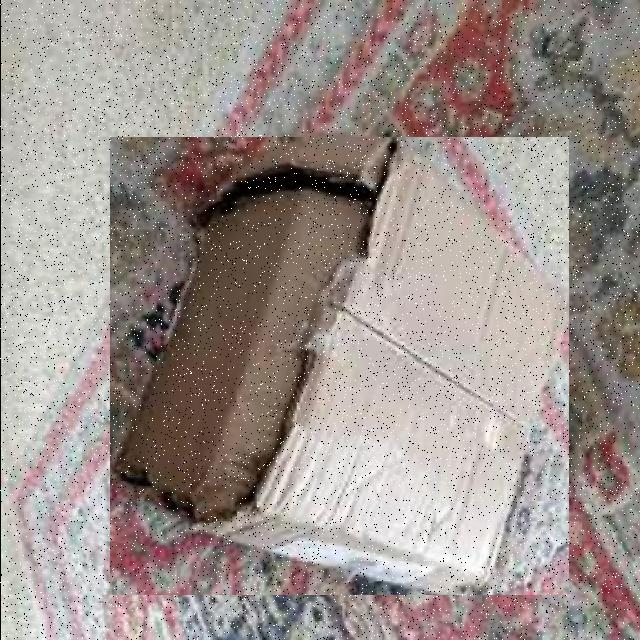defect: (109, 137, 568, 595)
